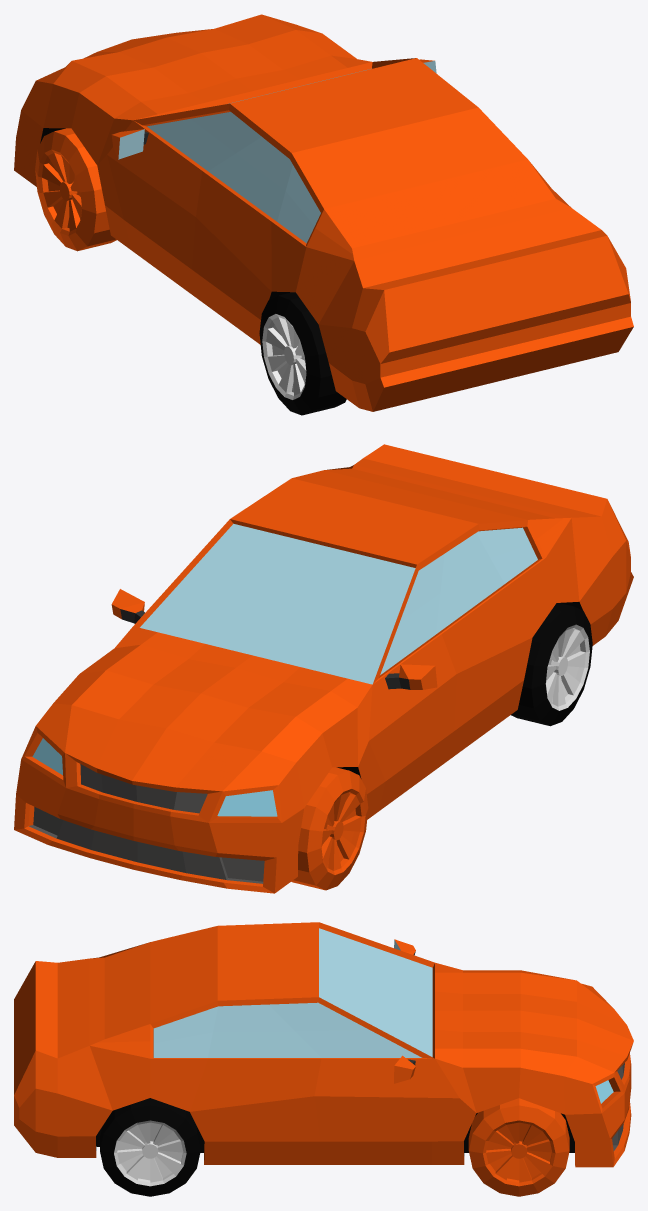
The model's file is car-modular-tires.fbx.
3 renders of one model, top to bottom at view 1: azimuth 30°, elevation 25°; view 2: azimuth 150°, elevation 25°; view 3: azimuth 270°, elevation 25°, orthographic. The views are drawn at different scales.
Parts seen in each view (by area): view 1: Cube, Wheel 4, Wheel 3; view 2: Cube, Wheel 4, Wheel 3; view 3: Cube, Wheel 2, Wheel 1.
Boxes of the visible parts, x1=… form: Cube: x1=14, y1=14, x2=633, y2=411; Wheel 4: x1=259, y1=292, x2=346, y2=415; Wheel 3: x1=35, y1=128, x2=116, y2=251; Cube: x1=14, y1=444, x2=633, y2=893; Wheel 4: x1=511, y1=603, x2=592, y2=726; Wheel 3: x1=291, y1=767, x2=368, y2=890; Cube: x1=14, y1=922, x2=633, y2=1167; Wheel 2: x1=468, y1=1098, x2=569, y2=1196; Wheel 1: x1=100, y1=1098, x2=200, y2=1196.
Size of the model in its own units: 430 by 286 by 880.
